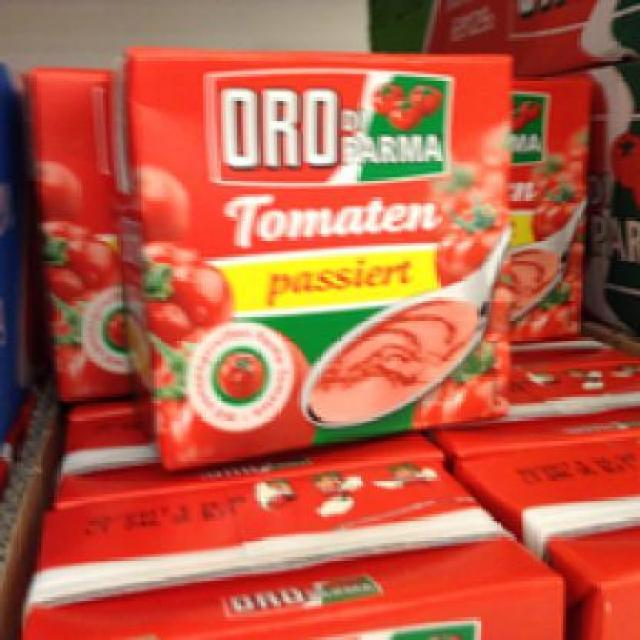Tomato Sauce: (109, 42, 512, 472)
